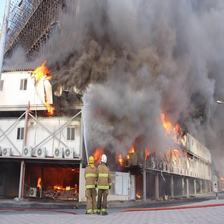fire: (87, 106, 187, 164)
